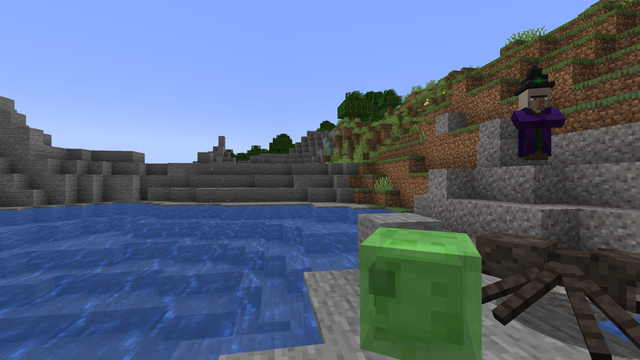araignees: (496, 227, 634, 358)
slimes: (356, 224, 503, 354)
sorcieres: (513, 83, 556, 165)
